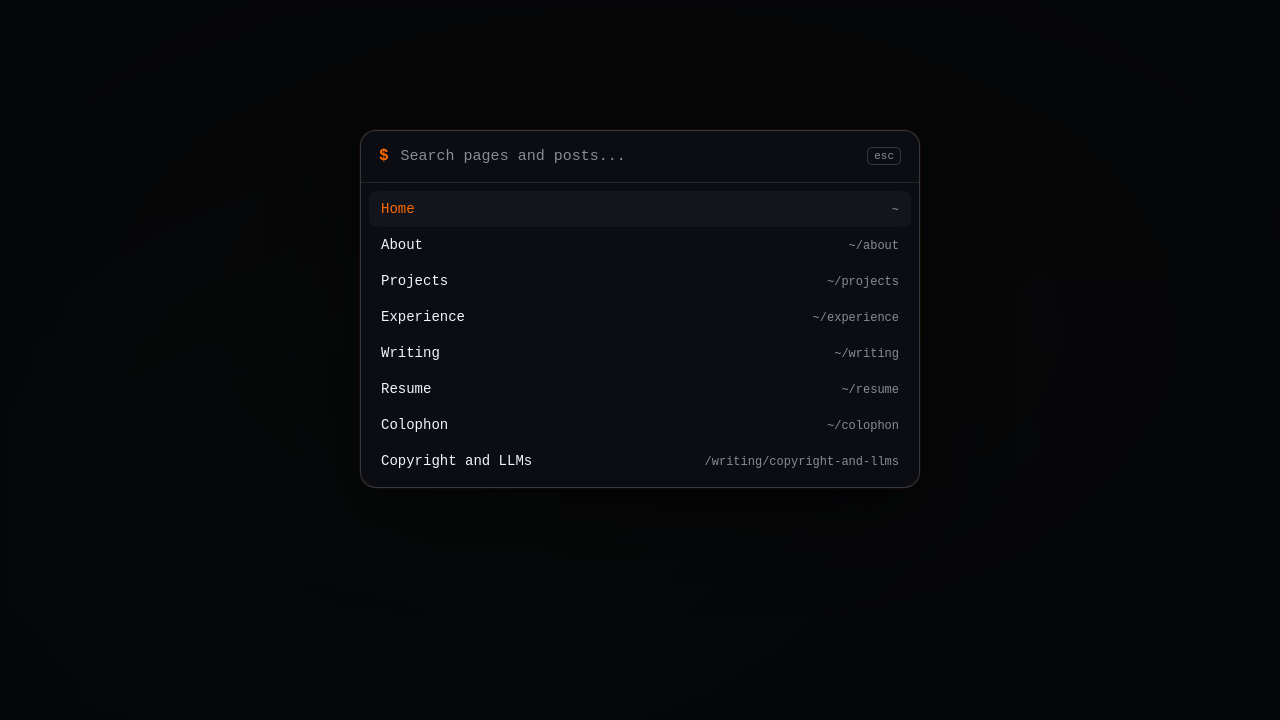
Scenario: CommandPalette › filters results as the query changes
In the dropdown with placeholder "Search pages and posts...": (628, 156) x1=399 y1=147 x2=857 y2=166, type "resume"
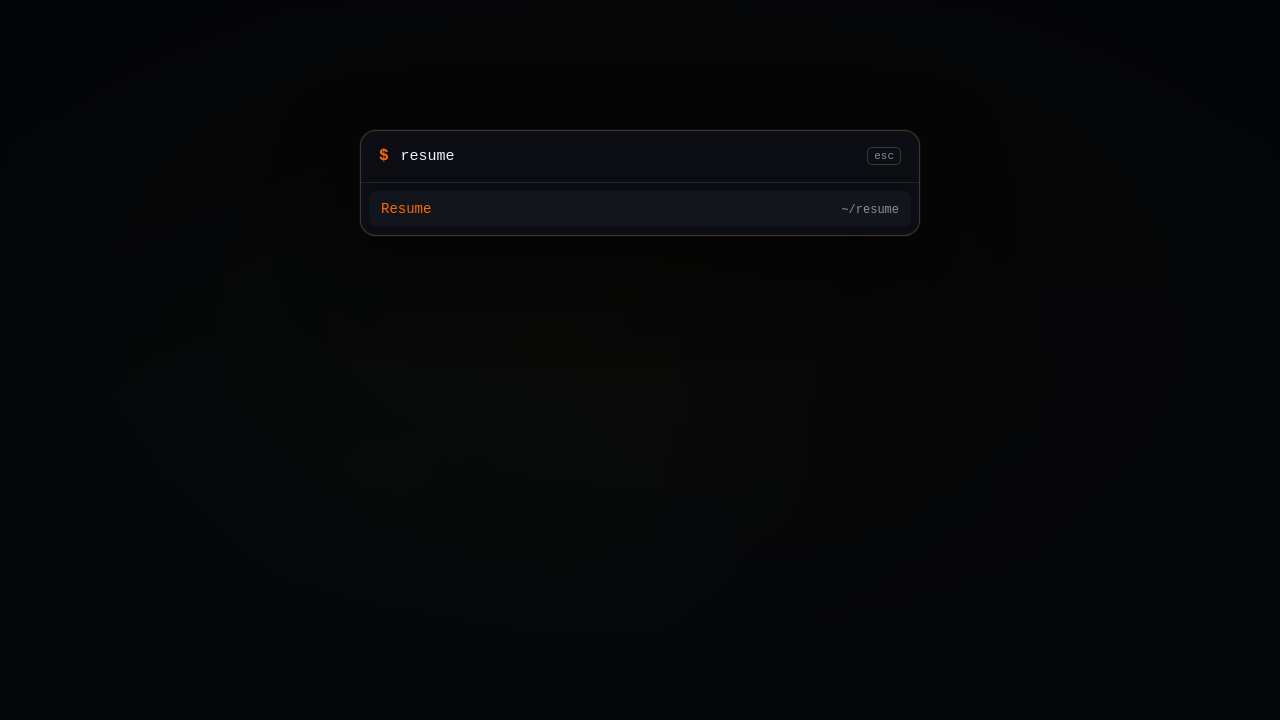
Expected: the option "Resume ~/resume" is shown, x1=369 y1=191 x2=911 y2=227
Expected: the number of options is 1, x1=369 y1=191 x2=911 y2=227
